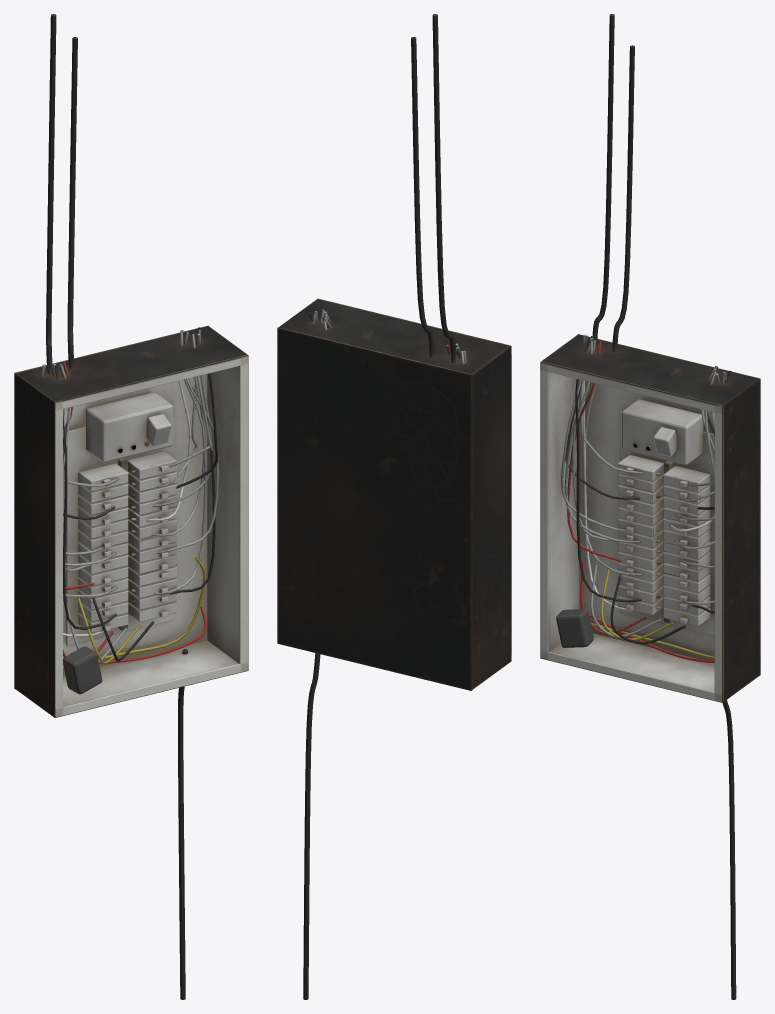
The model's file is ElectricPanel.fbx.
3 renders of one model, left to right at view 1: azimuth 30°, elevation 25°; view 2: azimuth 150°, elevation 25°; view 3: azimuth 330°, elevation 25°, orthographic. The views are drawn at different scales.
Visible parts, largest first — view 1: ElectricPanel_Mesh; view 2: ElectricPanel_Mesh; view 3: ElectricPanel_Mesh.
Boxes of the visible parts, x1,y1,x2,y2 form: ElectricPanel_Mesh: [14, 14, 248, 999]; ElectricPanel_Mesh: [277, 14, 511, 999]; ElectricPanel_Mesh: [540, 14, 760, 999].
Size of the model in its own units: 0.36 by 1.8 by 0.1358.
